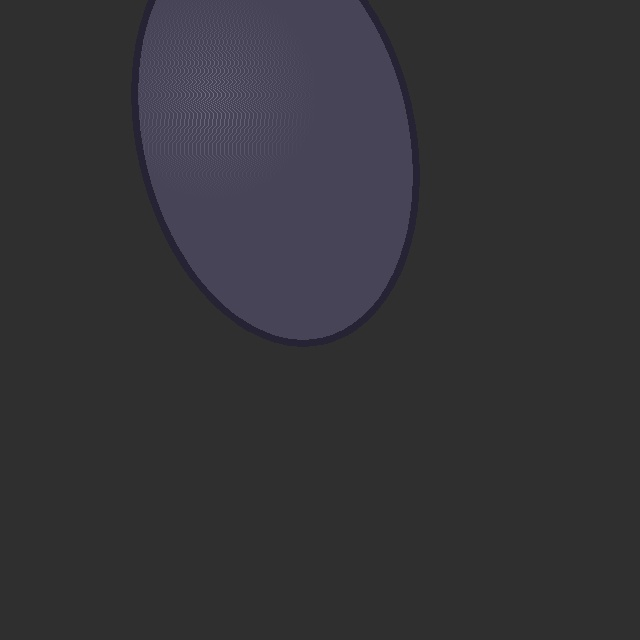lens: (135, 0, 415, 341)
